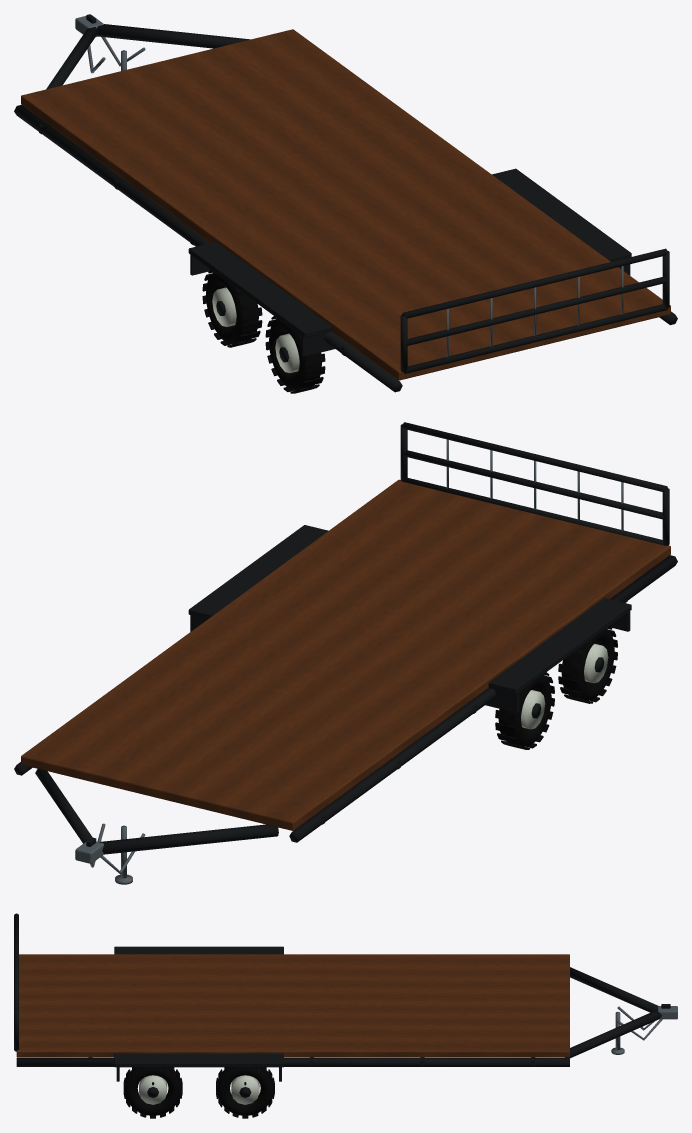
The model's file is EquipmentTrailer.gltf.
3 renders of one model, top to bottom at view 1: azimuth 30°, elevation 25°; view 2: azimuth 150°, elevation 25°; view 3: azimuth 270°, elevation 25°, orthographic. The views are drawn at different scales.
Visible parts, largest first — view 1: EquipmentTrailer__Body, EquipmentTrailer__Wheel_-1_2.8, EquipmentTrailer__Wheel_-1_5.3; view 2: EquipmentTrailer__Body, EquipmentTrailer__Wheel_-1_5.3, EquipmentTrailer__Wheel_-1_2.8; view 3: EquipmentTrailer__Body, EquipmentTrailer__Wheel_1_2.8, EquipmentTrailer__Wheel_1_5.3.
Part boxes in pixels (<box>): EquipmentTrailer__Body: <box>14,14,677,392</box>; EquipmentTrailer__Wheel_-1_2.8: <box>202,270,262,347</box>; EquipmentTrailer__Wheel_-1_5.3: <box>265,316,325,393</box>; EquipmentTrailer__Body: <box>14,422,677,884</box>; EquipmentTrailer__Wheel_-1_5.3: <box>558,626,617,703</box>; EquipmentTrailer__Wheel_-1_2.8: <box>495,672,554,749</box>; EquipmentTrailer__Body: <box>14,913,677,1081</box>; EquipmentTrailer__Wheel_1_2.8: <box>216,1067,274,1118</box>; EquipmentTrailer__Wheel_1_5.3: <box>123,1067,182,1118</box>.
Bounding box in the file's own units: 2.1 × 0.8596 × 5.04.
Materials: 1 (1 with a texture image).
